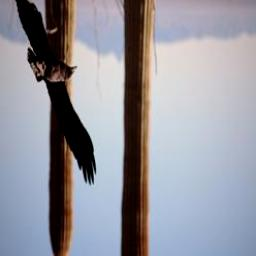Crow: (12, 0, 99, 189)
